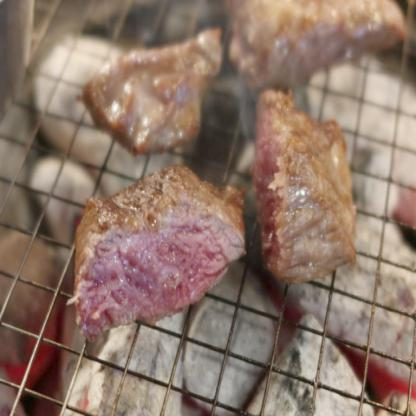Carne: (64, 159, 243, 342), (251, 87, 355, 284), (80, 23, 222, 158)
